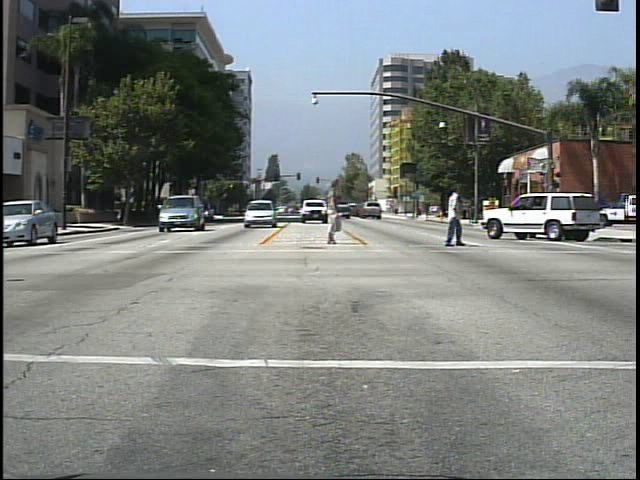person: (436, 177, 473, 254), (311, 175, 348, 250)
